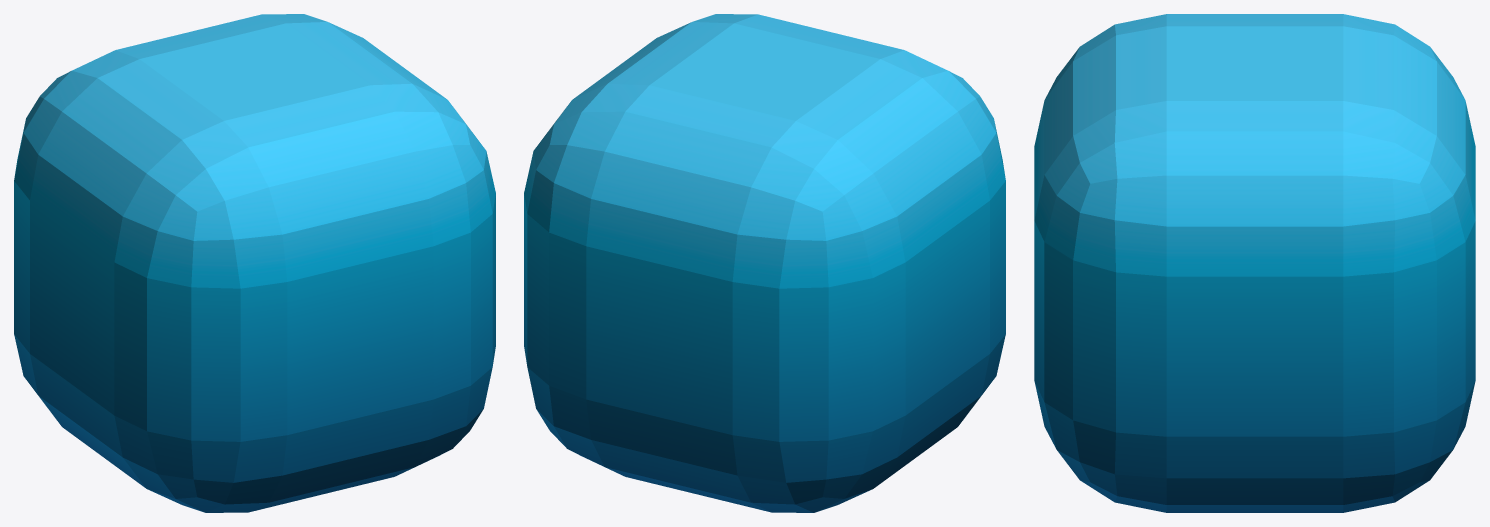
Rendered from smBoxy.glb.
The picture shows the model from 3 angles, left to right: view 1: azimuth 30°, elevation 25°; view 2: azimuth 150°, elevation 25°; view 3: azimuth 270°, elevation 25°; orthographic projection. The views are drawn at different scales.
Visible parts, largest first — view 1: Cube.002; view 2: Cube.002; view 3: Cube.002.
Boxes of the visible parts, left/top/right/bottom form: Cube.002: left=14, top=14, right=495, bottom=512; Cube.002: left=524, top=14, right=1005, bottom=512; Cube.002: left=1034, top=14, right=1475, bottom=512.
Bounding box in the file's own units: 1 × 1 × 1.
Materials: 1 (1 with a texture image).
